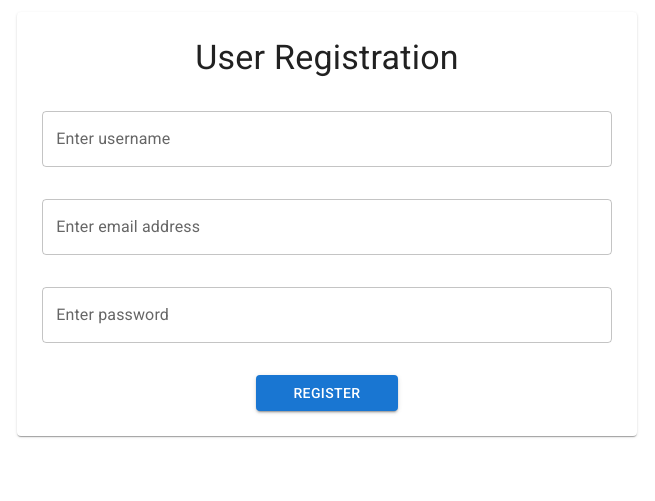
Test: Register form › should show email, password invalid error messange
Type "invalid email" into the field labelled "Enter email address" at (327, 227), box [42, 199, 612, 255]
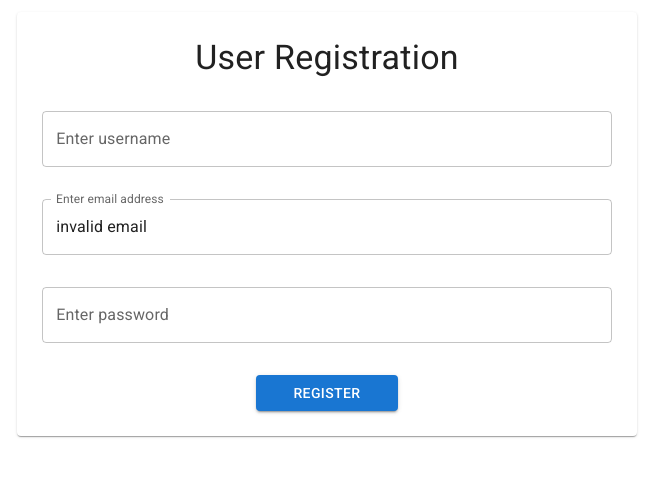
Type "wrongP" into the field labelled "Enter password" at (327, 315), box [42, 287, 612, 343]
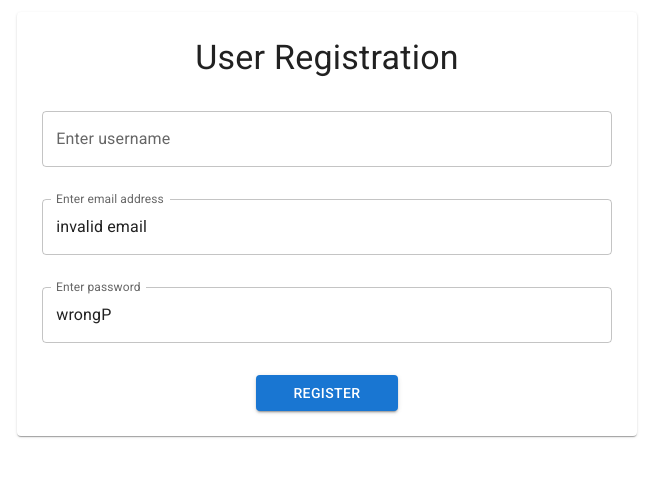
Type "username" into the field labelled "Enter username" at (327, 139), box [42, 111, 612, 167]
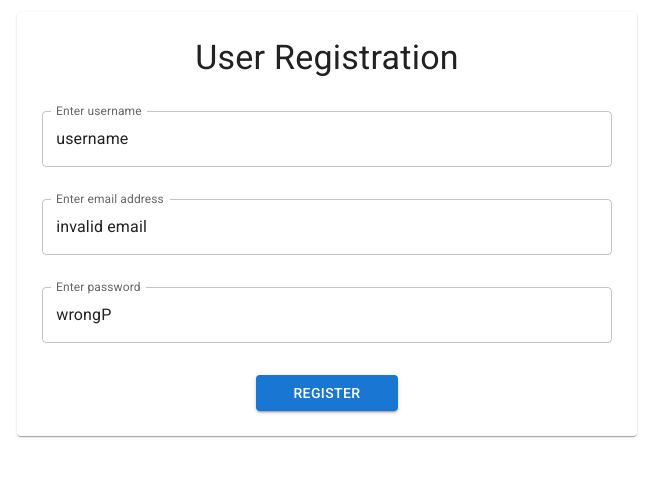
Submit the form from the button "Register", box [256, 375, 398, 412]
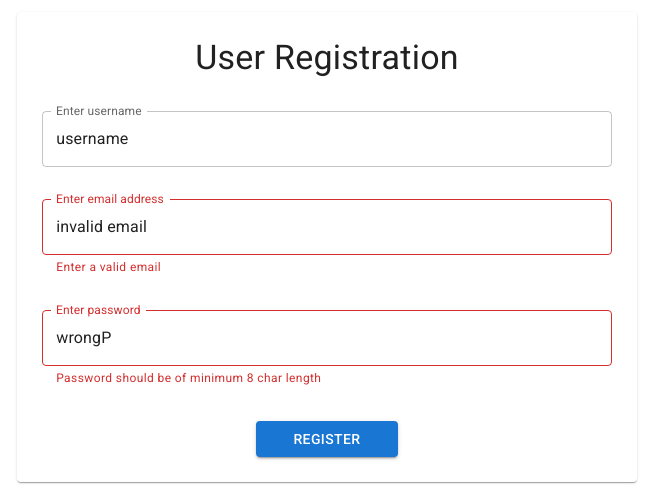
Expected: the text "Enter a valid email" is shown, [56, 260, 161, 274]
Expected: the text "Password should be of minimum 8 char length" is shown, [56, 371, 321, 385]
